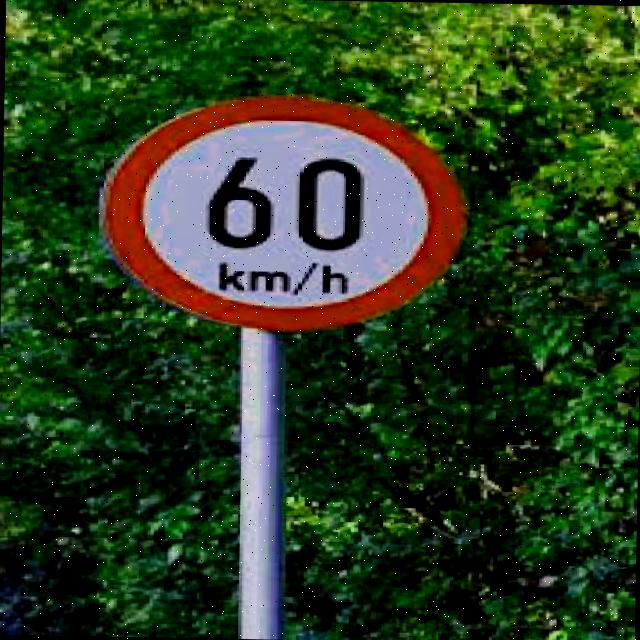Ograniczenie predkosci do 60: (107, 98, 462, 332)
